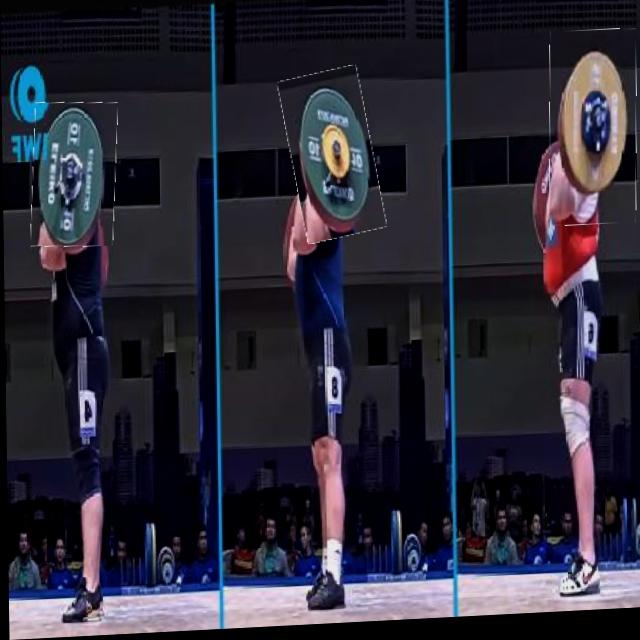barbell: (548, 35, 638, 233), (284, 71, 380, 247), (31, 101, 118, 250)
